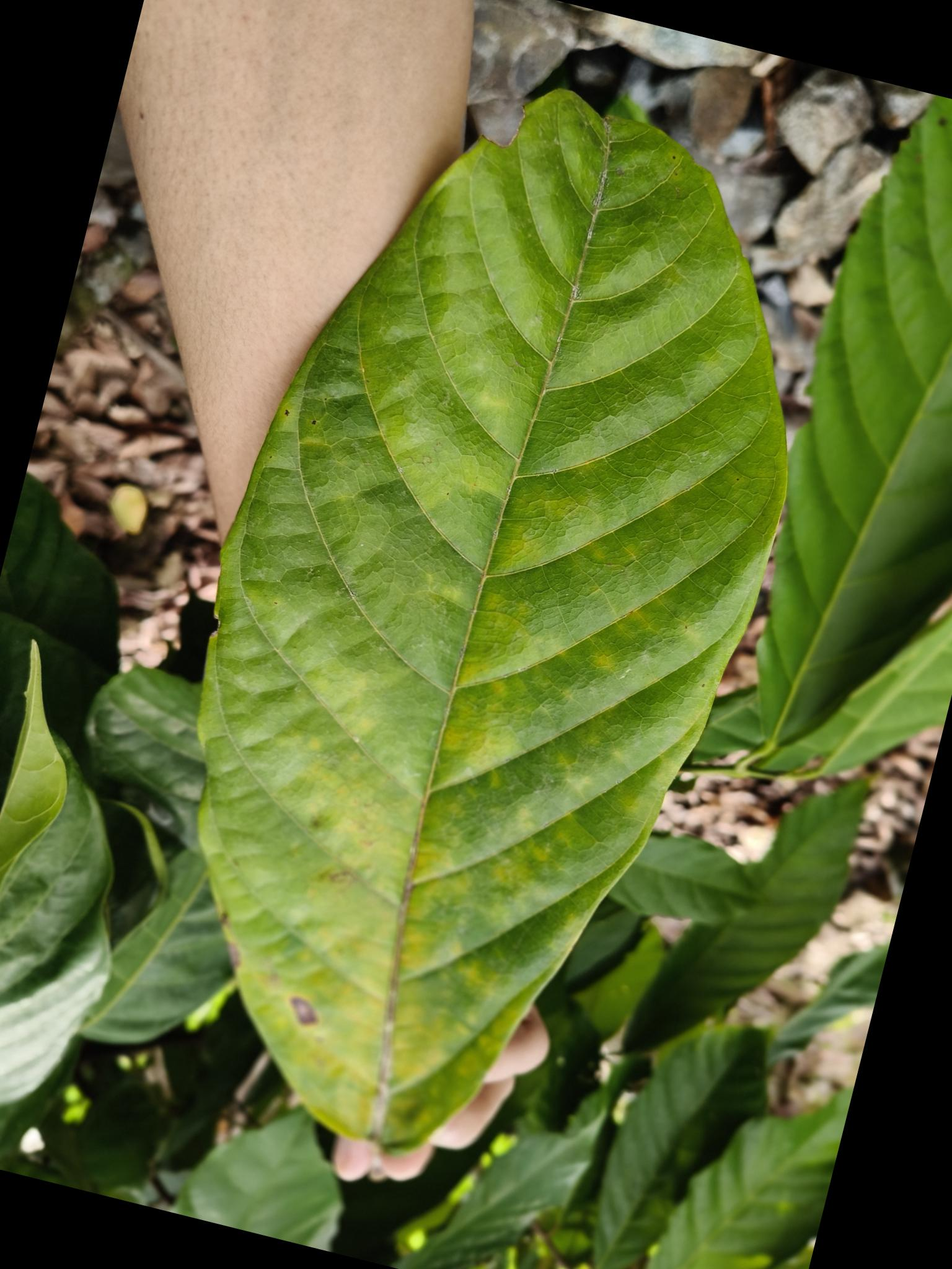Fosforo: (183, 62, 784, 1142)
